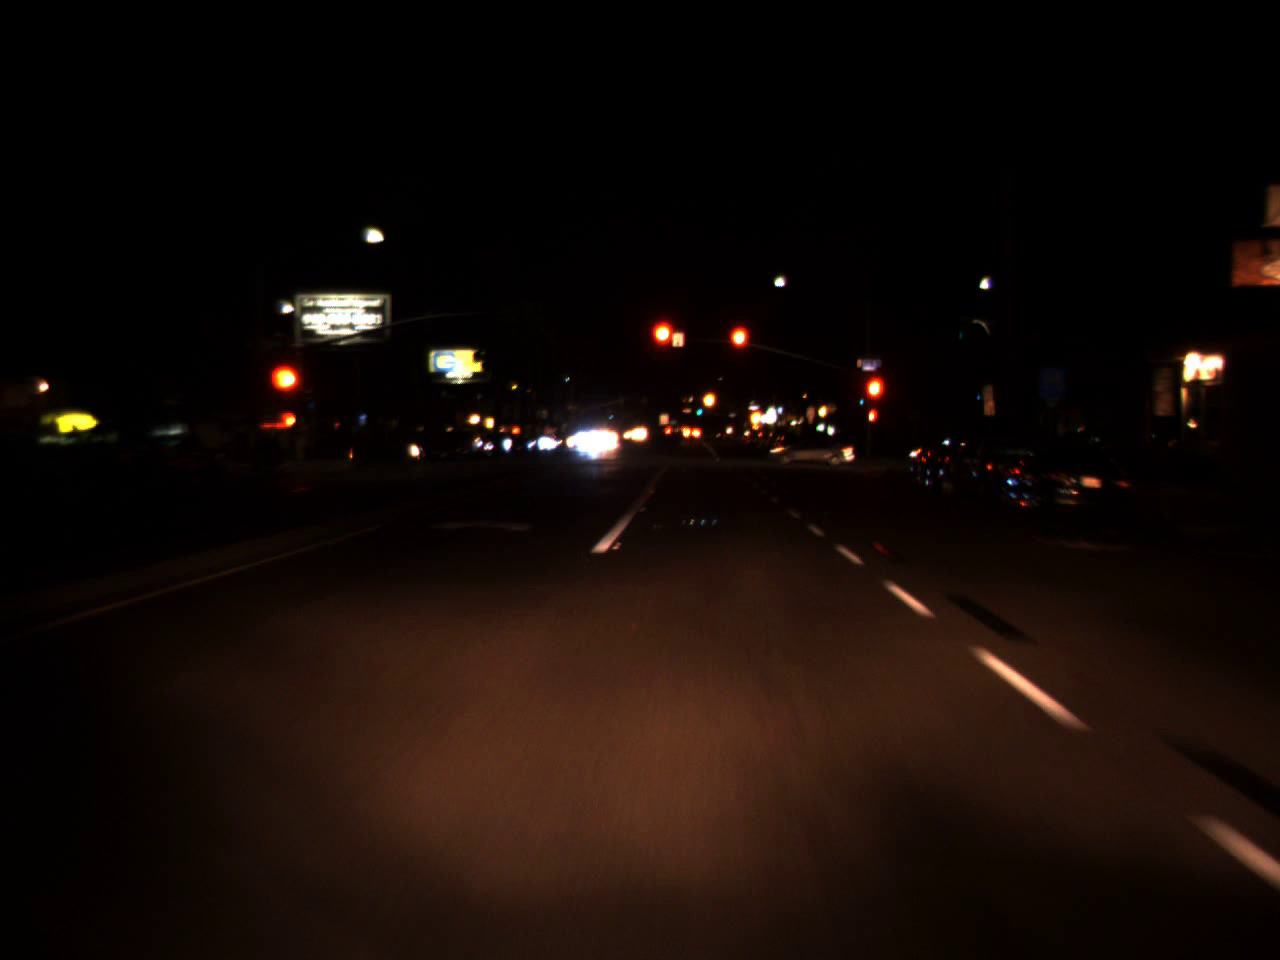go: (696, 402, 703, 417)
stop: (265, 360, 304, 424), (648, 316, 679, 375), (862, 373, 887, 427), (726, 323, 751, 371)
warning: (701, 383, 717, 415), (748, 402, 764, 429)
